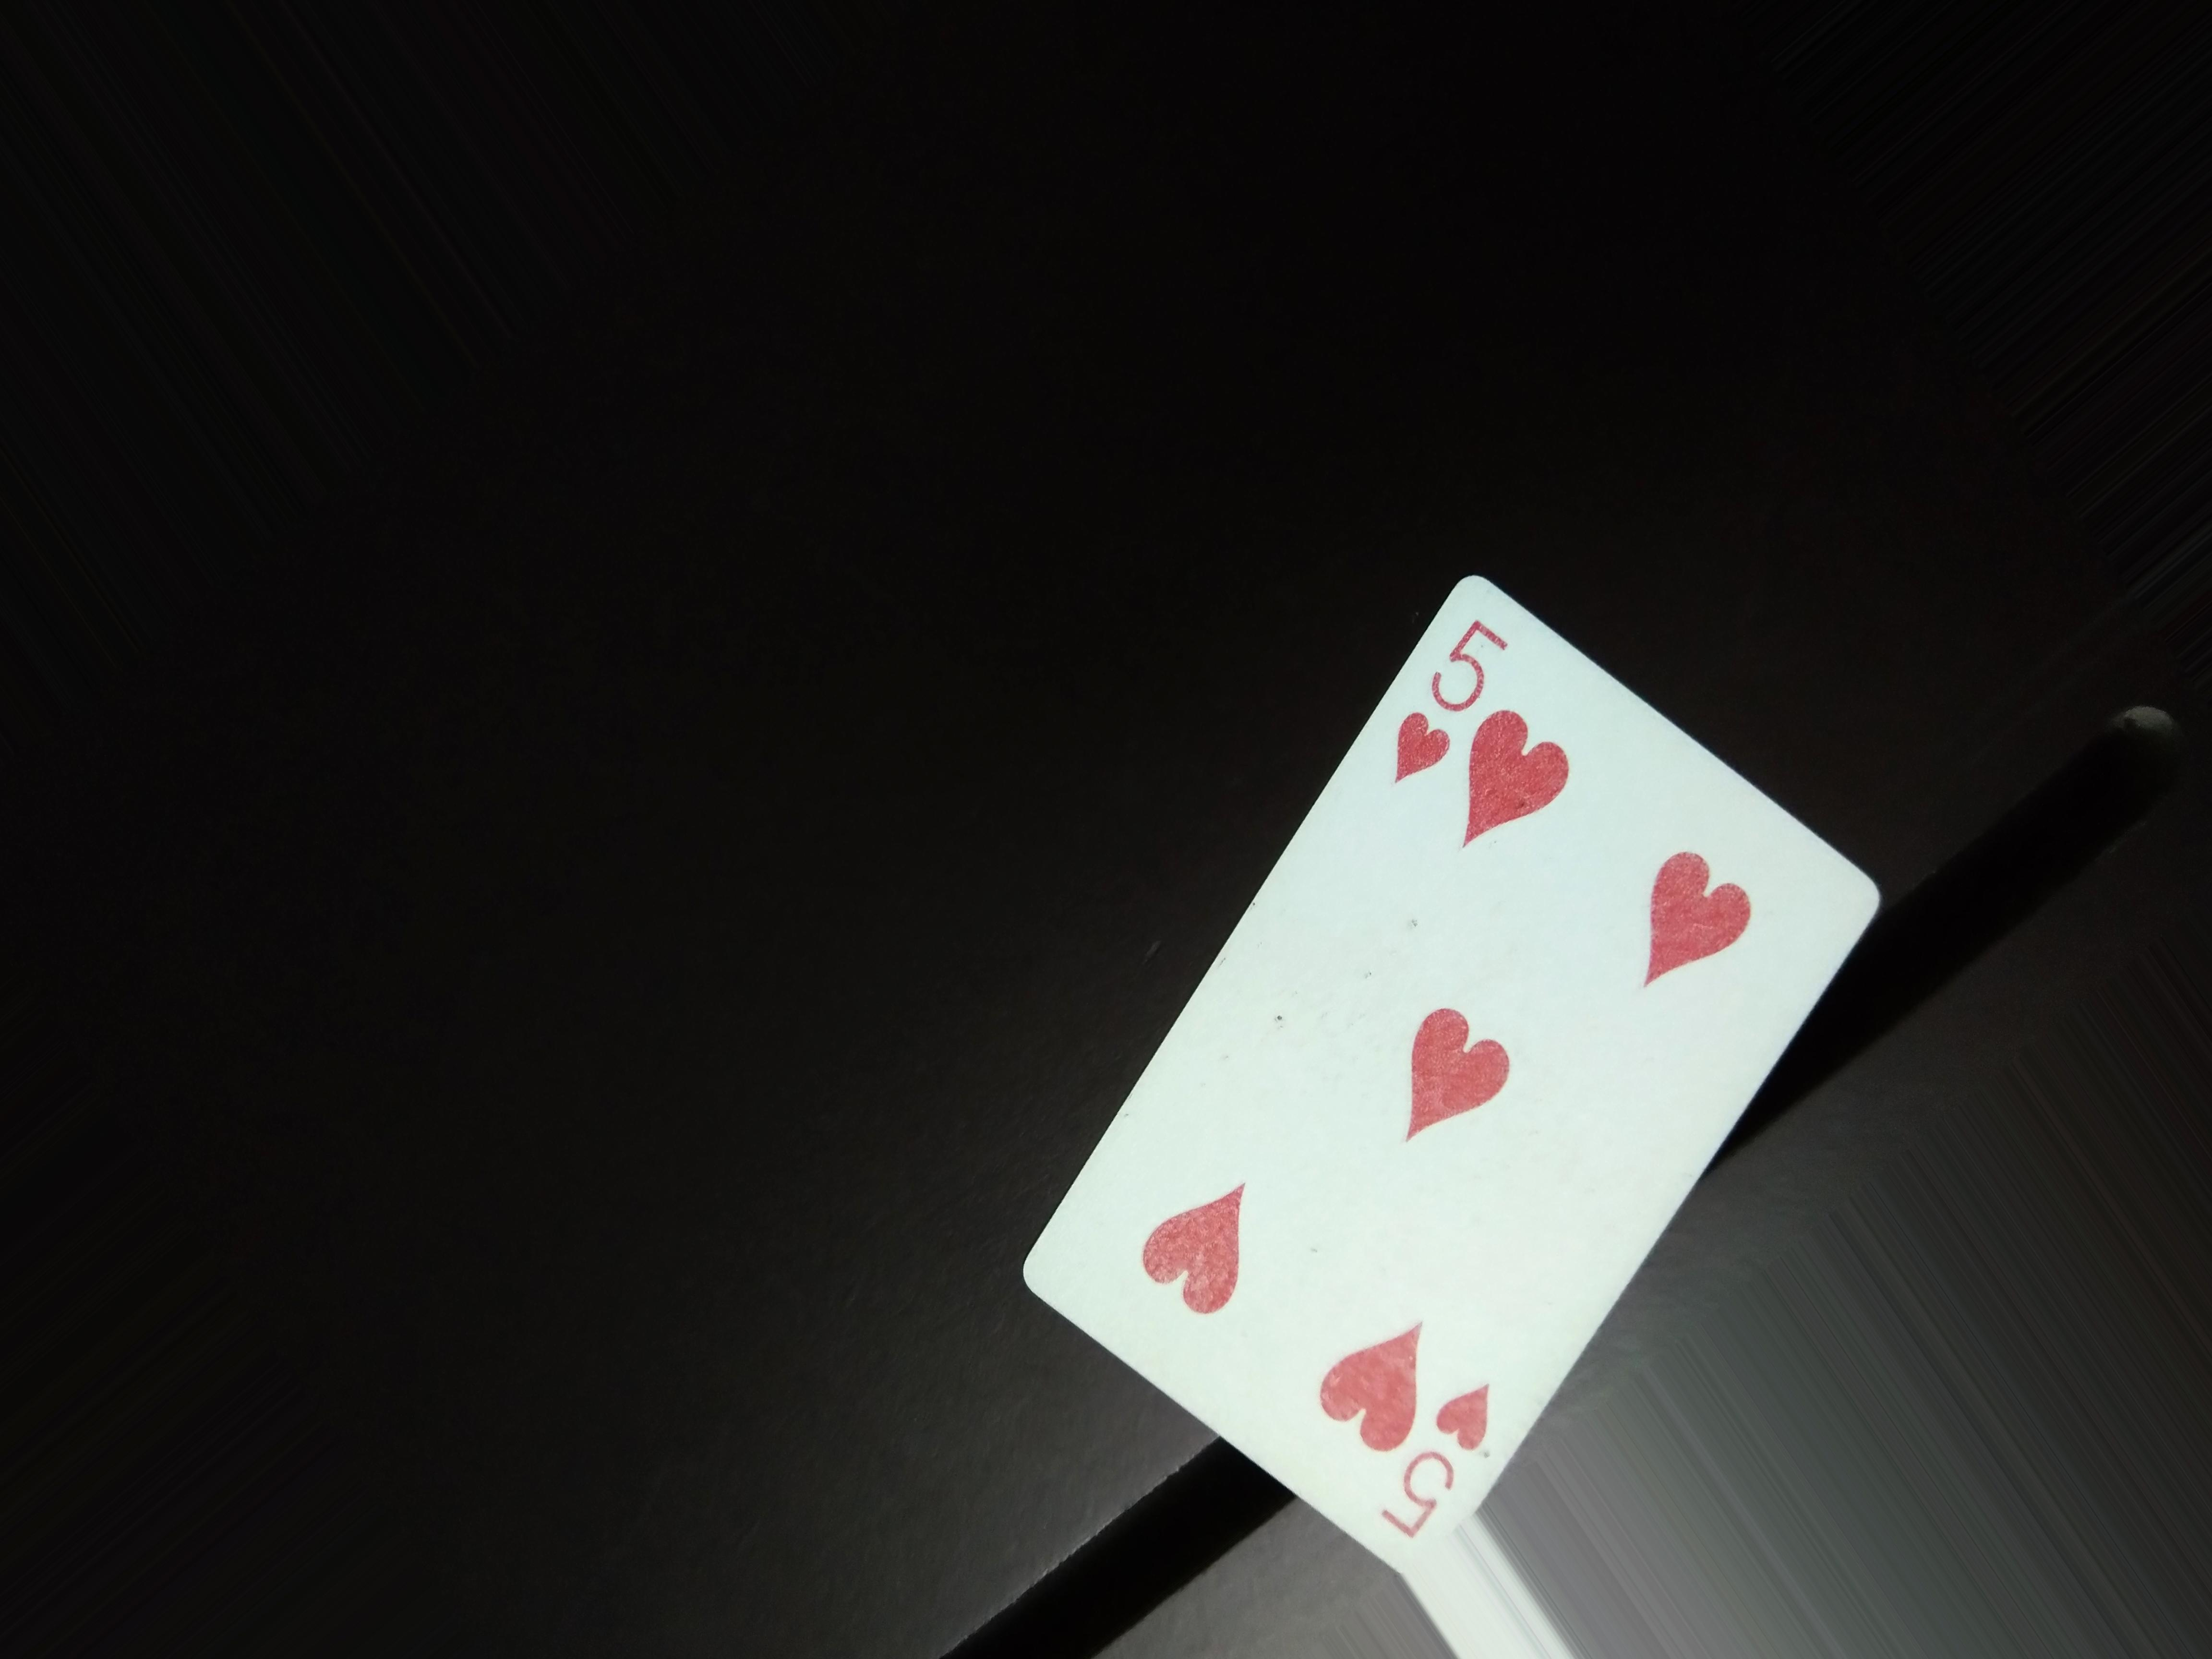5H: (1383, 606, 1512, 789)
